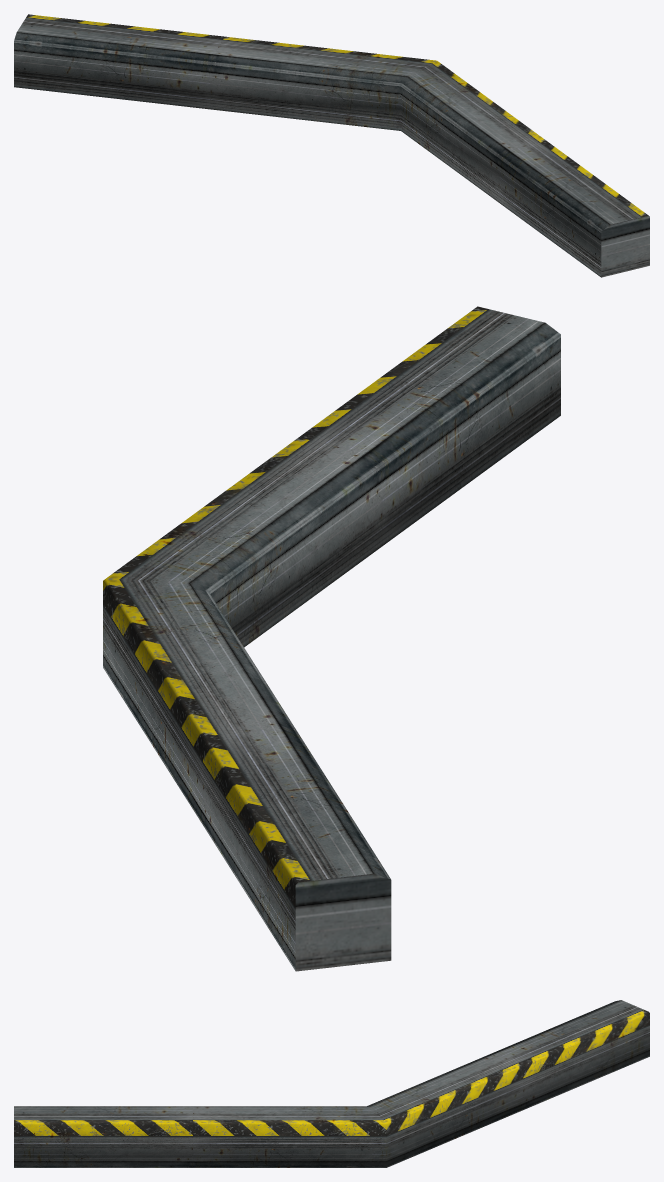
File: Edges_16.fbx
The picture shows the model from 3 angles, top to bottom: view 1: azimuth 30°, elevation 25°; view 2: azimuth 150°, elevation 25°; view 3: azimuth 270°, elevation 25°; orthographic projection. The views are drawn at different scales.
Parts seen in each view (by area): view 1: Edges_16; view 2: Edges_16; view 3: Edges_16.
Boxes of the visible parts, <box> form: Edges_16: <box>14,14,649,277</box>; Edges_16: <box>103,306,560,971</box>; Edges_16: <box>14,1000,649,1167</box>.
Size of the model in its own units: 167 by 27.46 by 355.
Materials: 1 (1 with a texture image).
